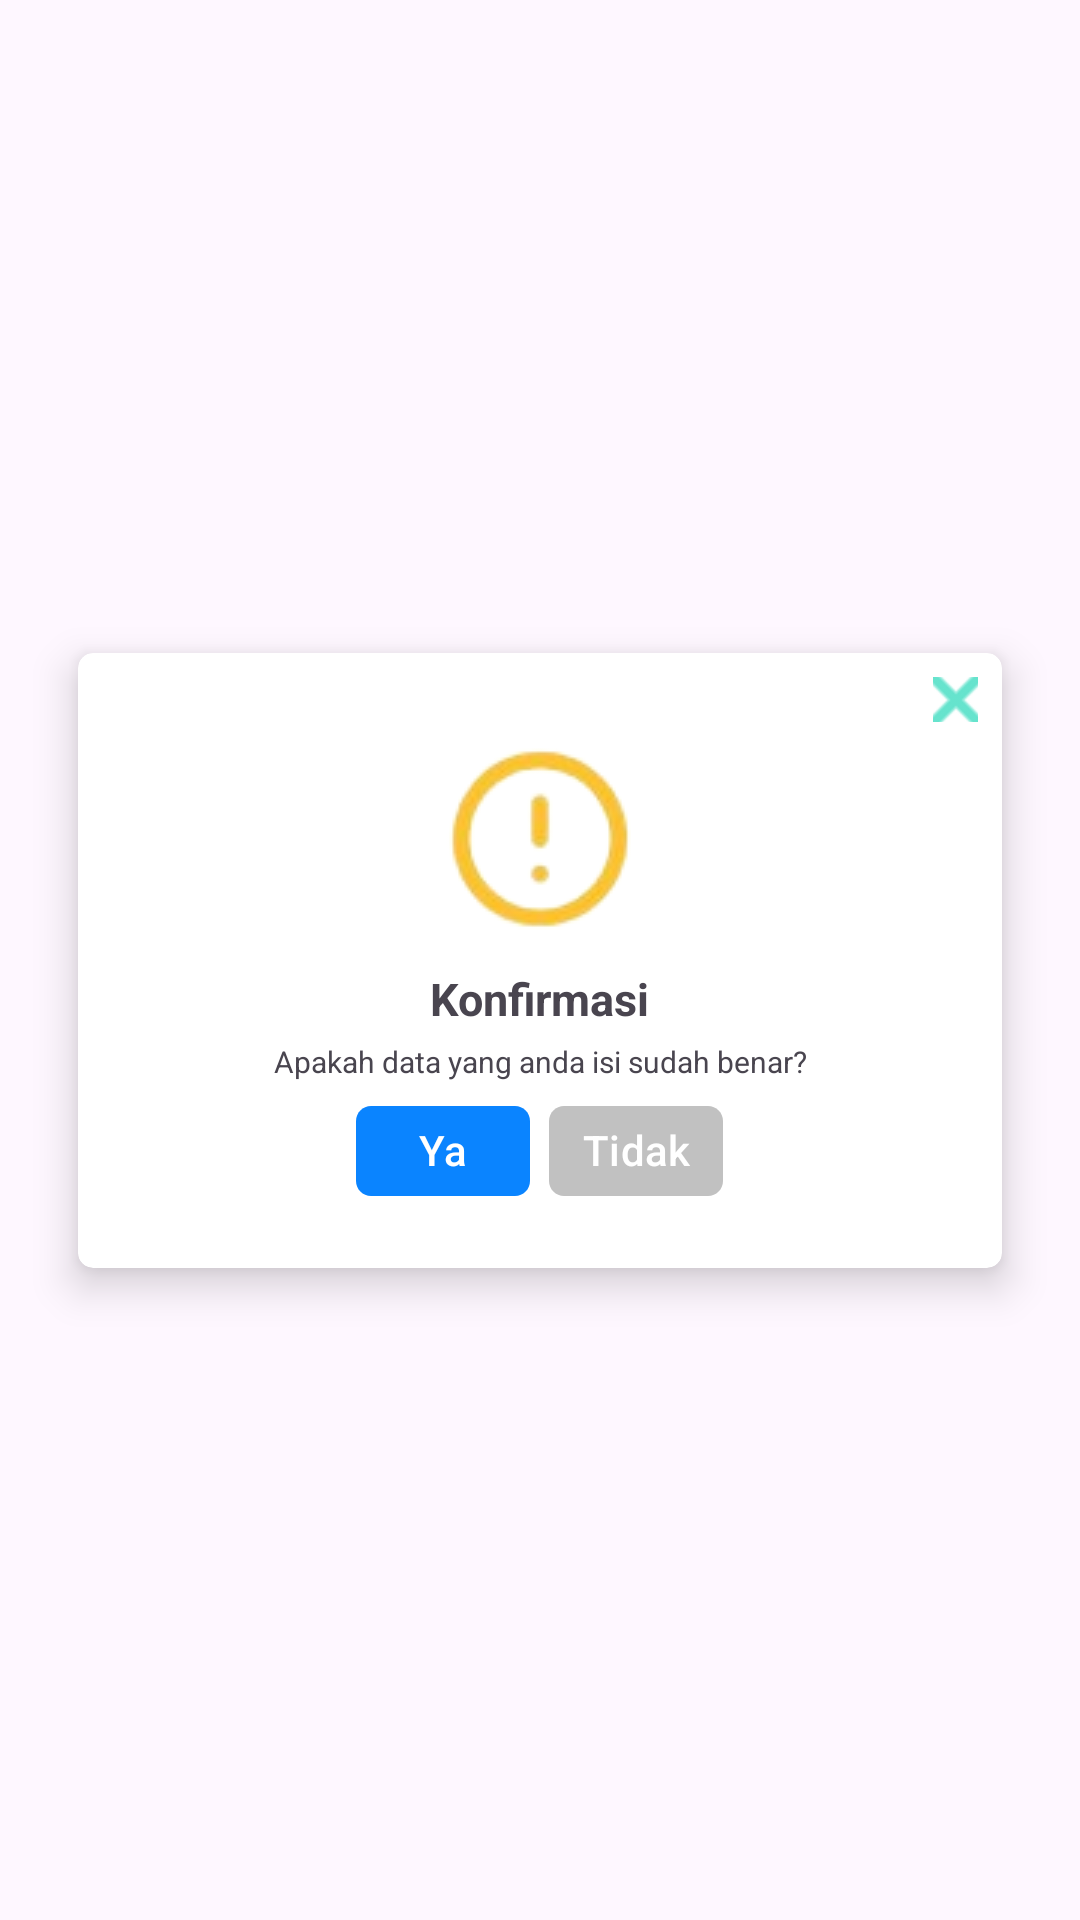

Icons on this 1080 x 1920 Android screen, each with its box as box=[x1, y1, x2, y2]:
close clear cancel: box=[933, 677, 978, 722]
seru: box=[452, 751, 628, 927]
